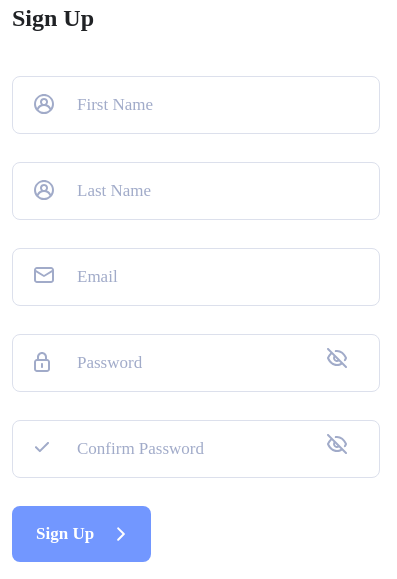
it: Should render Form Sign Up › should display matching error when email is invalid
Type "test" into the field with placeholder "Email". click: (196, 277)
box: [12, 248, 380, 306]
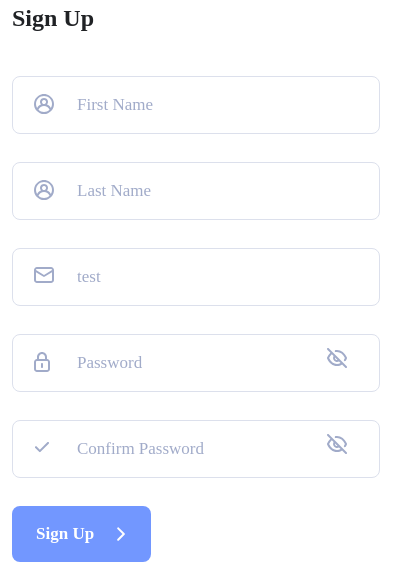
Type "password" into the password field with placeholder "Password". click: (196, 363)
box: [12, 334, 380, 392]
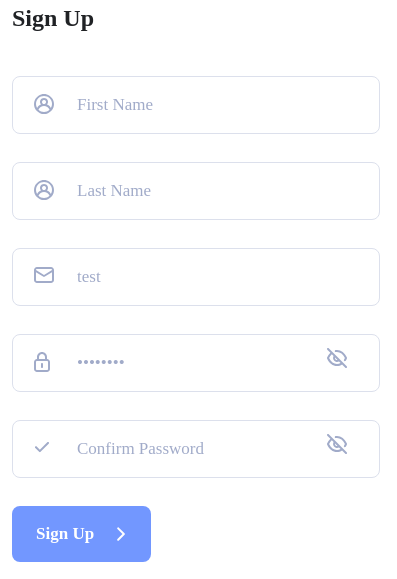
Type "first name" into the field with placeholder "First Name". click: (196, 105)
box: [12, 76, 380, 134]
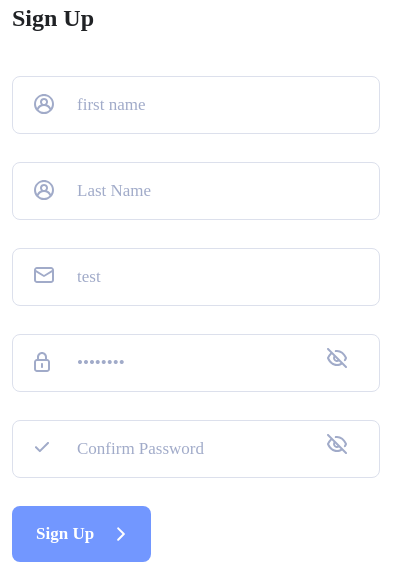
Type "last name" into the field with placeholder "Last Name". click: (196, 191)
box: [12, 162, 380, 220]
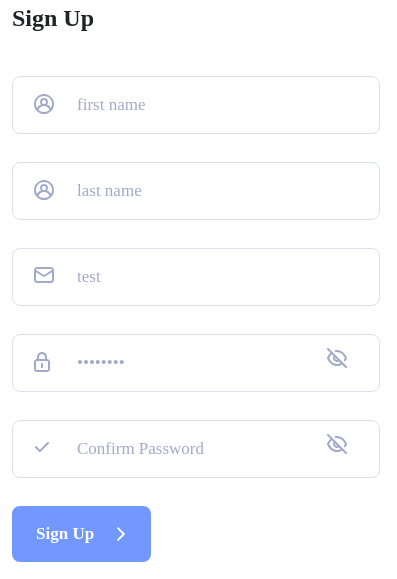
Submit the form from the button, box [12, 506, 151, 562]
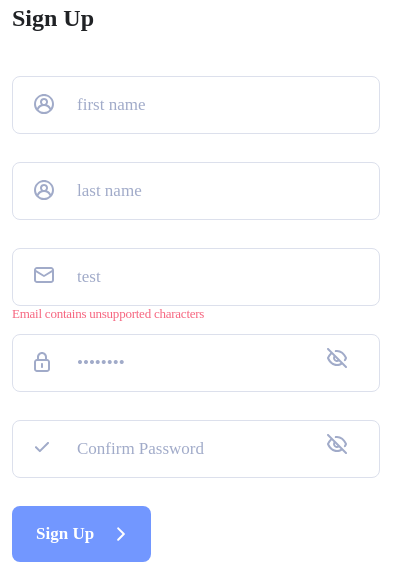
Expected: the number of messages is 1, [12, 306, 204, 322]
